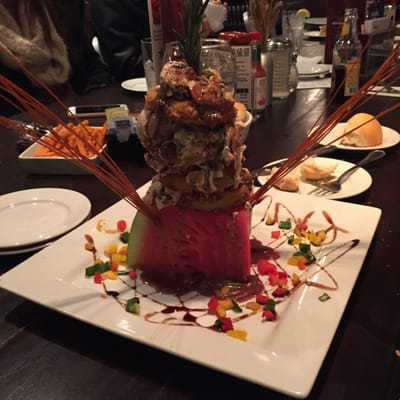salad: (314, 150, 386, 193)
